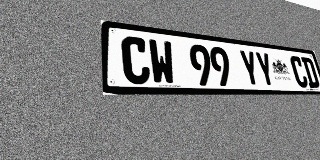9: (188, 43, 215, 86), (208, 46, 234, 86)
C: (121, 35, 151, 84), (289, 55, 309, 88)
D: (301, 57, 320, 88)
W: (148, 39, 176, 85)
Y: (238, 49, 262, 87), (254, 51, 276, 87)
